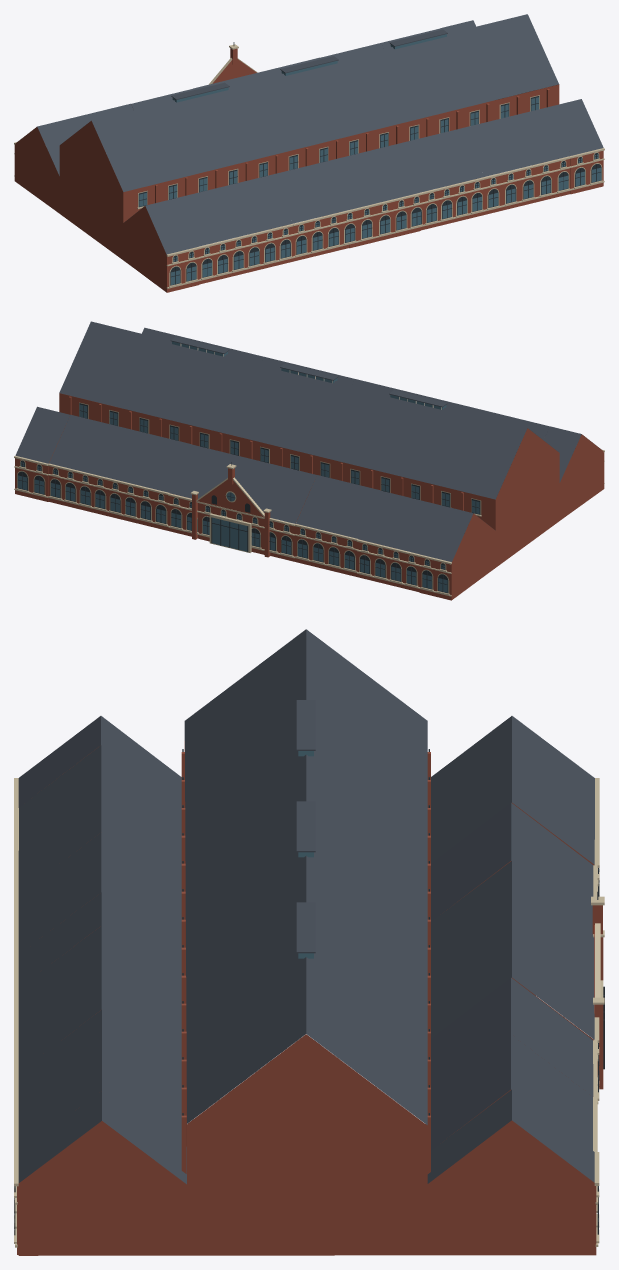
The model's file is zuiveringshal-west.glb.
The picture shows the model from 3 angles, top to bottom: view 1: azimuth 30°, elevation 25°; view 2: azimuth 150°, elevation 25°; view 3: azimuth 270°, elevation 25°; orthographic projection. The views are drawn at different scales.
Parts seen in each view (by area): view 1: zuiveringshal-west; view 2: zuiveringshal-west; view 3: zuiveringshal-west.
Boxes of the visible parts, x1=… form: zuiveringshal-west: x1=14, y1=14, x2=604, y2=292; zuiveringshal-west: x1=14, y1=321, x2=604, y2=600; zuiveringshal-west: x1=14, y1=629, x2=604, y2=1255.
Bounding box in the file's own units: 68.13 × 17.79 × 41.95.
